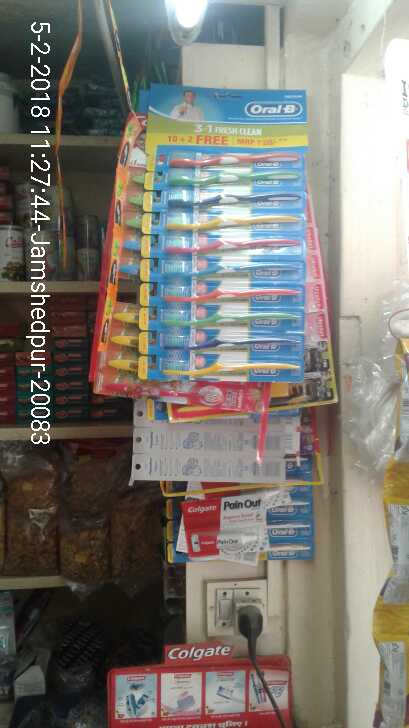oralb: (154, 354, 305, 381), (154, 144, 308, 168), (154, 332, 304, 356), (154, 306, 303, 330), (157, 233, 305, 257), (158, 258, 304, 282), (158, 284, 305, 307), (157, 188, 303, 211), (154, 167, 305, 188), (167, 213, 307, 231)
